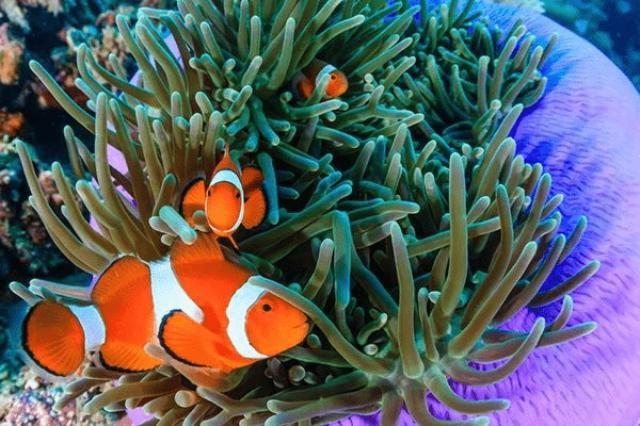Mulut: (260, 304, 326, 350), (333, 69, 362, 103), (202, 206, 238, 232)
Sirip Anal: (85, 343, 163, 389)
Sirip Dada: (146, 299, 238, 383), (173, 170, 215, 238), (242, 187, 278, 238)
Sirip Ekor: (0, 276, 94, 400), (235, 154, 272, 206)
Sirip Punggung: (70, 225, 248, 302)
